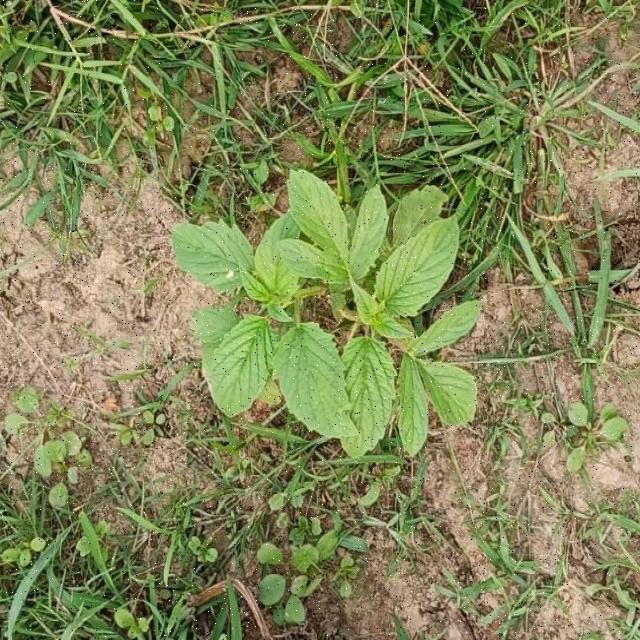plant: (172, 170, 480, 457)
